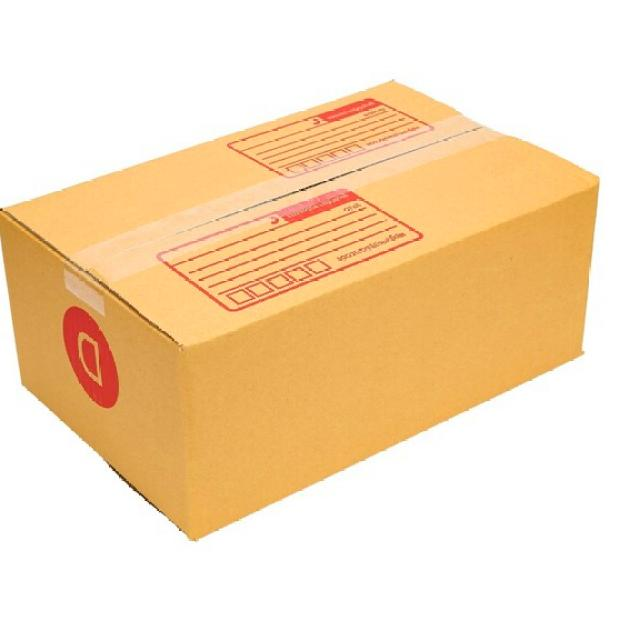box: (0, 57, 622, 556)
